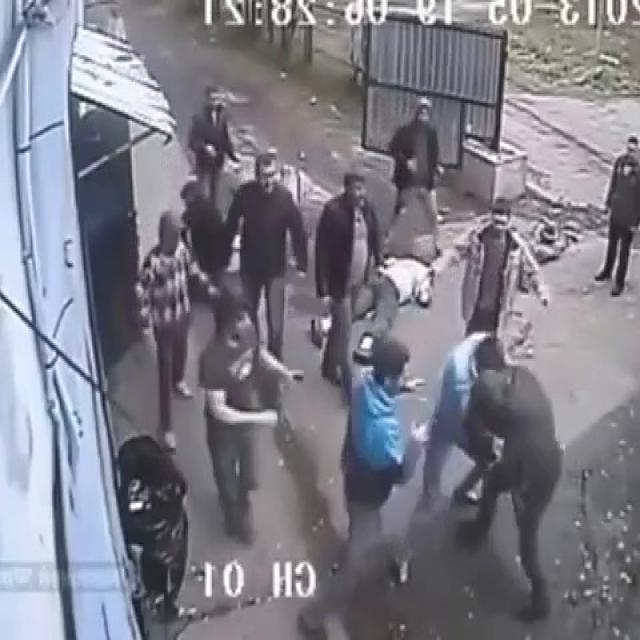fight: (339, 334, 579, 640)
